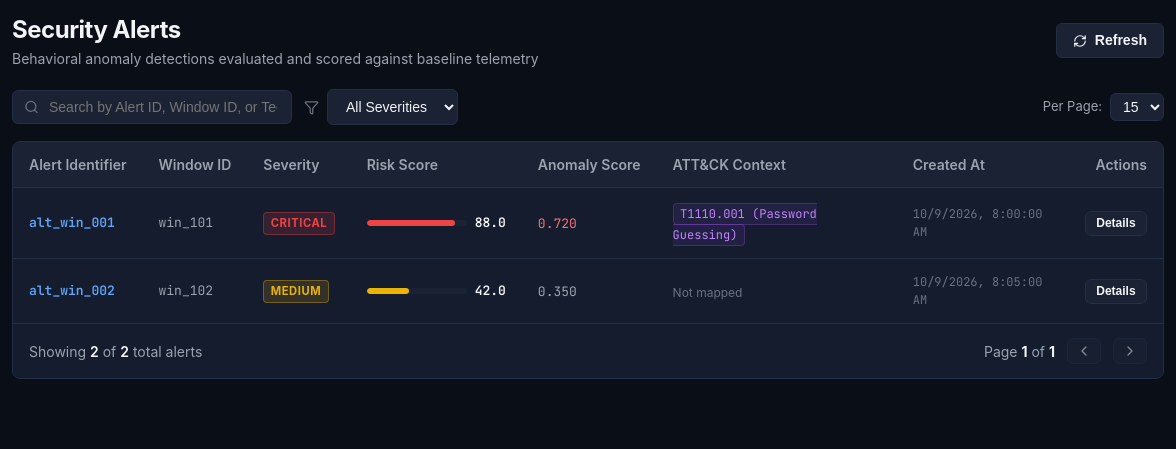
AlertsView › displays empty search result state when no match is found
Expected: the text "alt_win_001" is shown, top-left (13, 188), bottom-right (142, 258)
Type "nonexistent_alert_id" into the field named "Search alerts" at (152, 107), box top-left (12, 90), bottom-right (292, 124)
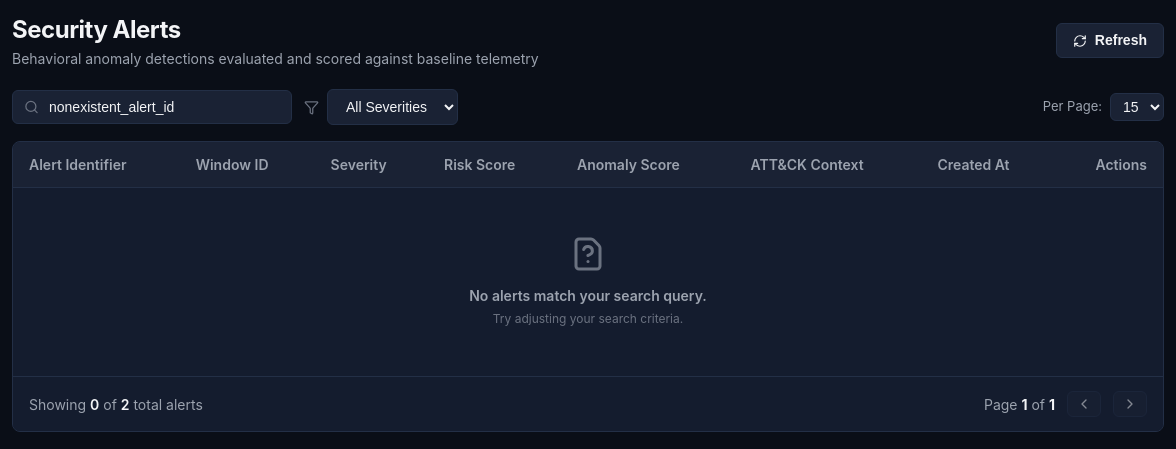
Expected: the text "No alerts match your search query." is shown, top-left (469, 287), bottom-right (707, 304)
